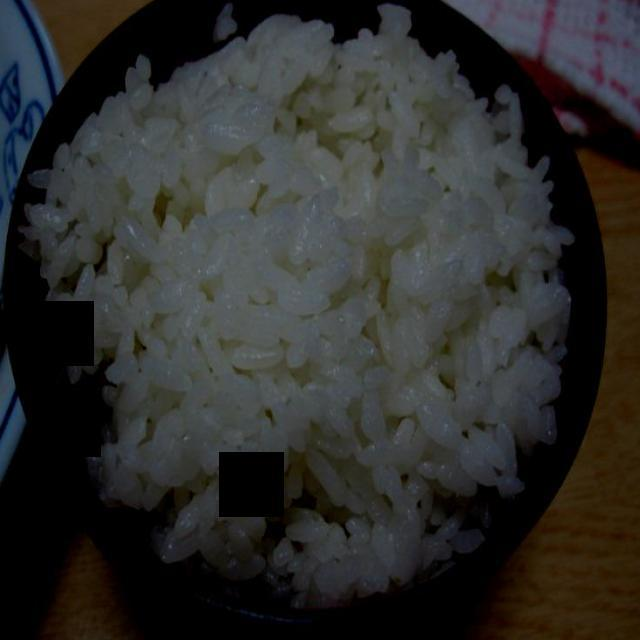rice: (17, 0, 578, 608)
